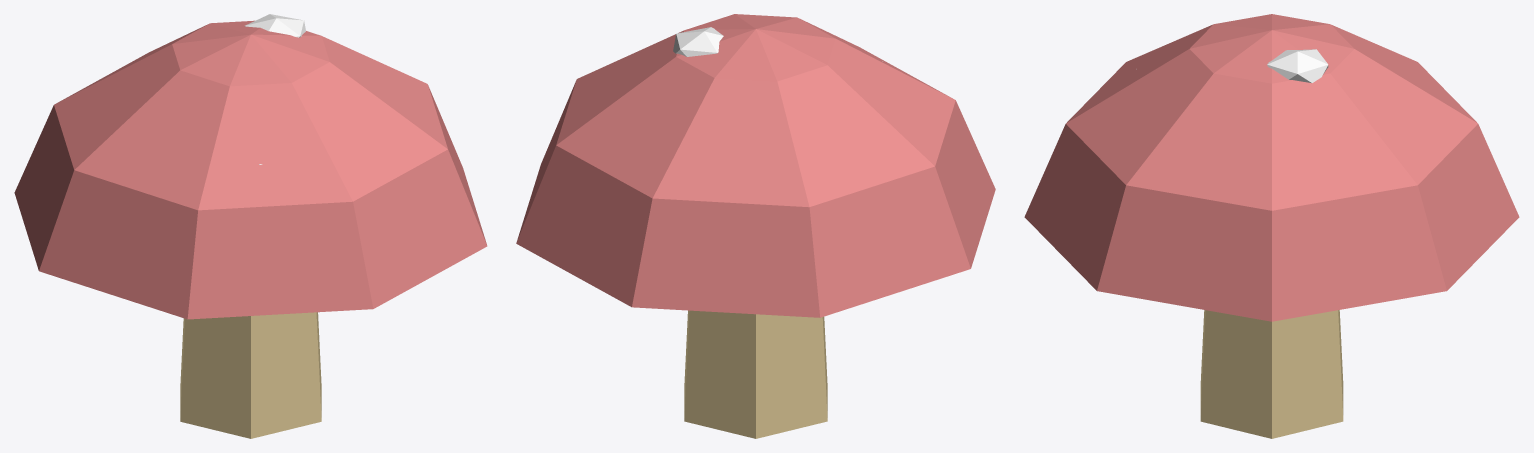
The model's file is mushroom.glb.
3 views of the same model, side by side, from view 1: azimuth 30°, elevation 25°; view 2: azimuth 150°, elevation 25°; view 3: azimuth 270°, elevation 25° (orthographic).
Parts seen in each view (by area): view 1: forest-mushroom; view 2: forest-mushroom; view 3: forest-mushroom.
Part boxes in pixels (x1,y1,x2,y2): forest-mushroom: [14, 14, 487, 438]; forest-mushroom: [516, 14, 995, 438]; forest-mushroom: [1024, 14, 1519, 438].
Size of the model in its own units: 0.48 by 0.4 by 0.48.
